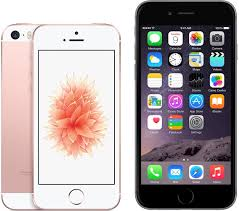iphone: (134, 1, 239, 211), (26, 17, 125, 211)
iphone6: (134, 1, 239, 211), (26, 19, 124, 211)
